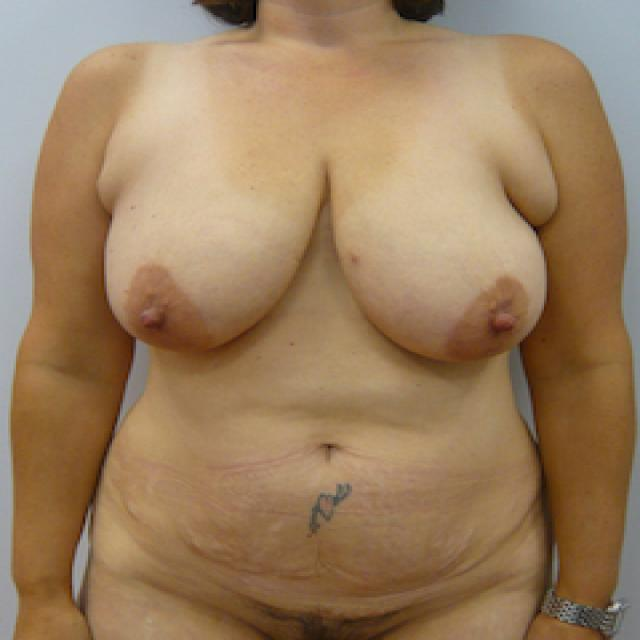Seno ileso: (325, 122, 564, 378), (88, 122, 321, 378)
